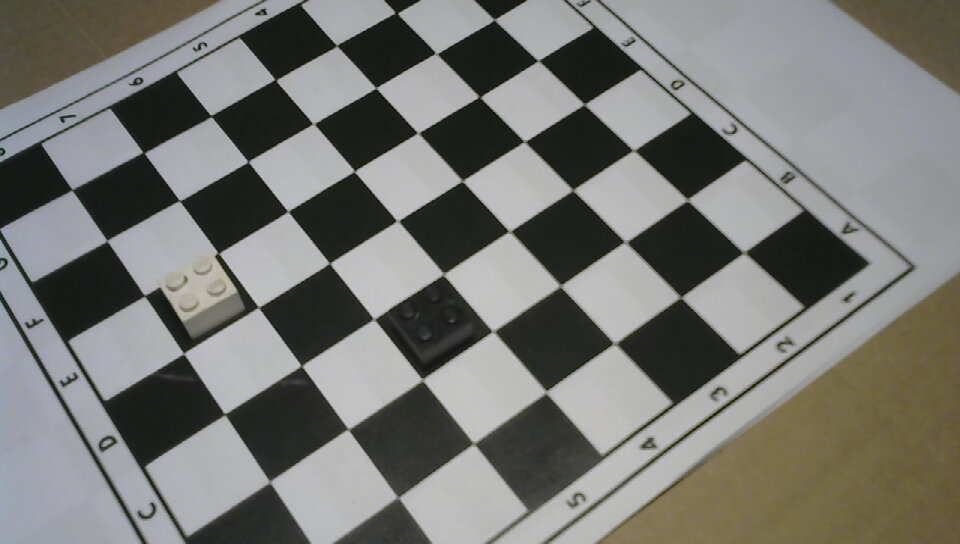bp: (384, 274, 478, 376)
